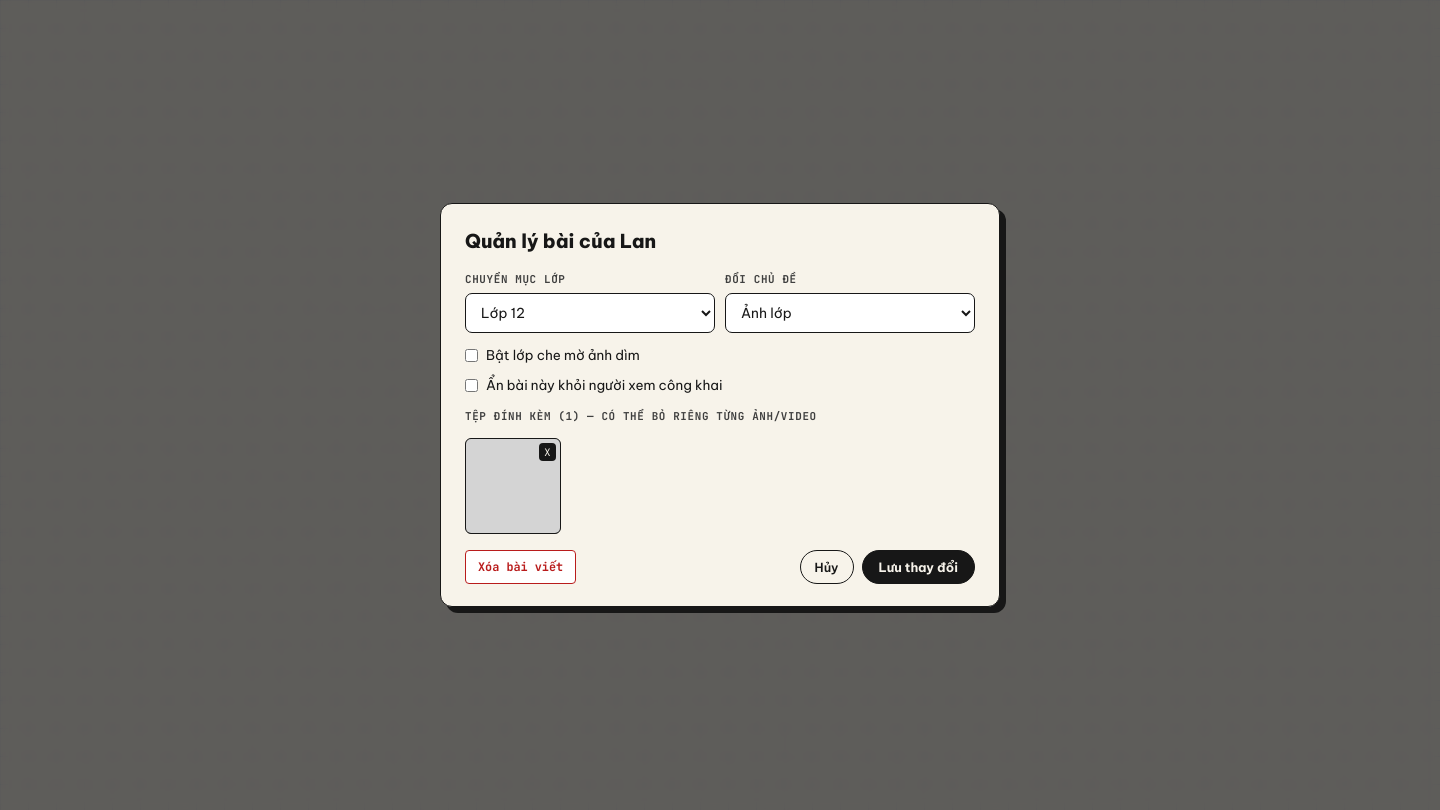
Final review Critical & Important fixes › Important #3: Hero validator rejects video files and AdminSettingsModal blocks removing last media of textless post
Click the button named "Xóa tệp m1".
click(548, 452)  # box [539,444,556,462]
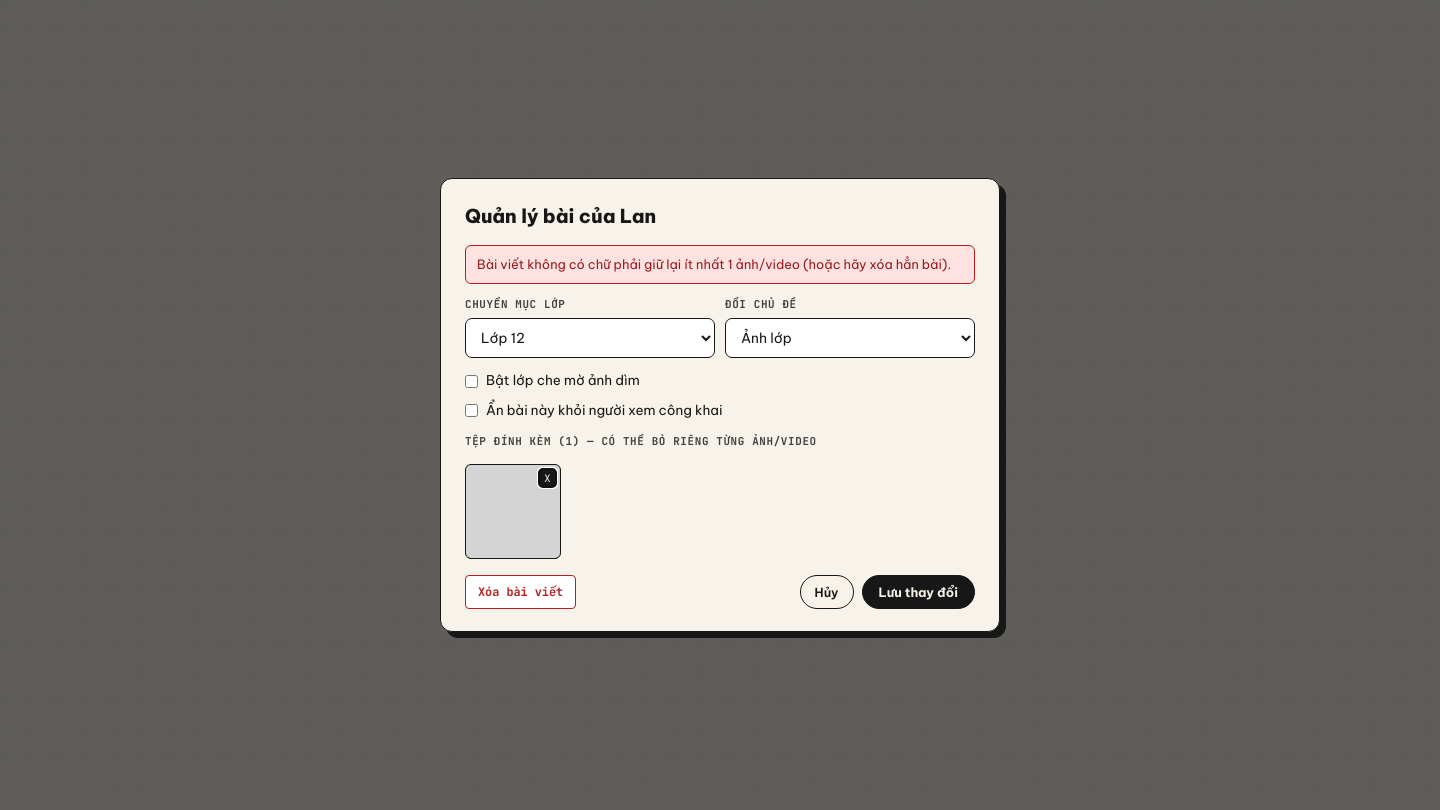
Expected: the message shows "ít nhất 1 ảnh/video", [477,256,951,272]
